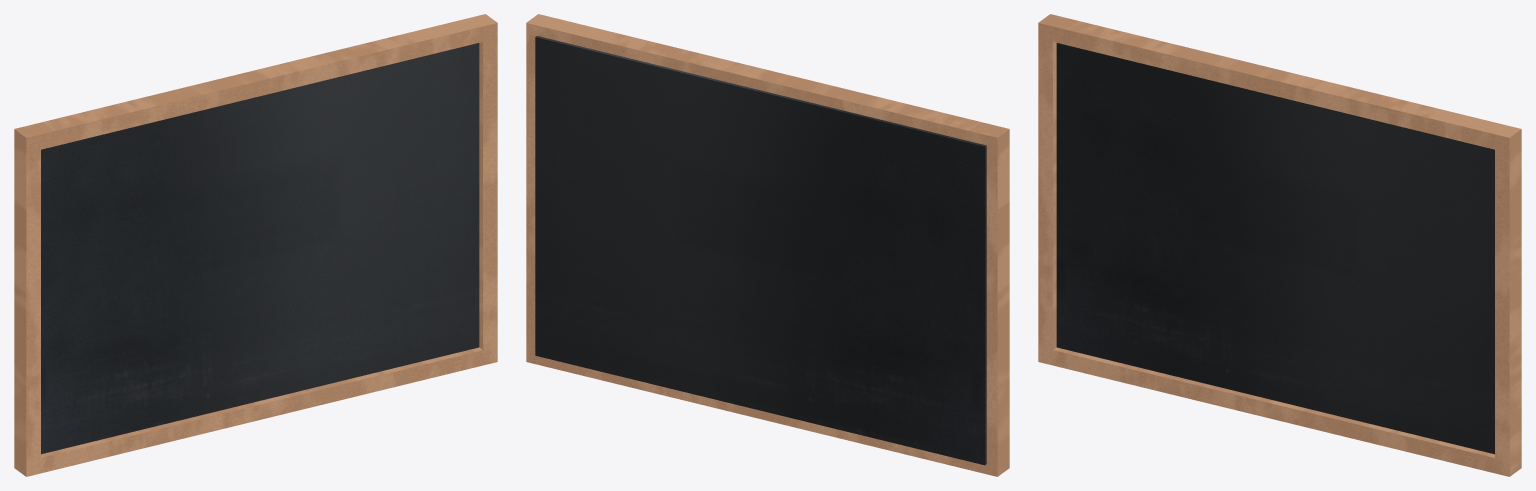
File: blackboard.glb
3 renders of one model, left to right at view 1: azimuth 30°, elevation 25°; view 2: azimuth 150°, elevation 25°; view 3: azimuth 330°, elevation 25°, orthographic.
Parts seen in each view (by area): view 1: Cube.001, Cube; view 2: Cube.001, Cube; view 3: Cube.001, Cube.
Part boxes in pixels (bbox=[...]): Cube.001: bbox=[41, 43, 479, 454]; Cube: bbox=[14, 14, 497, 476]; Cube.001: bbox=[535, 36, 986, 465]; Cube: bbox=[526, 14, 1009, 476]; Cube.001: bbox=[1056, 43, 1494, 454]; Cube: bbox=[1038, 14, 1521, 476].
Size of the model in its own units: 3.2 by 2.2 by 0.164.
2 materials, 2 textured.
